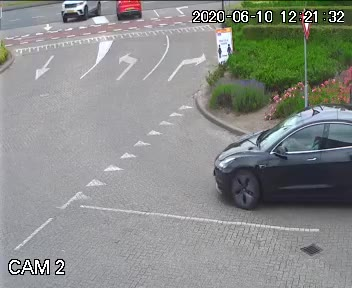car: (194, 85, 352, 222), (55, 0, 98, 27), (110, 2, 142, 24)
